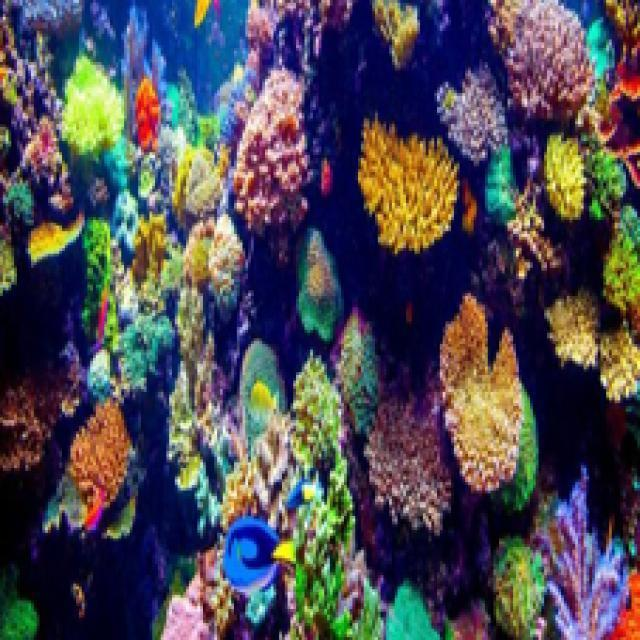Healthy: (443, 305, 528, 489), (364, 128, 454, 249), (239, 76, 304, 235), (497, 1, 585, 113), (553, 508, 626, 640), (299, 471, 356, 640), (378, 400, 450, 533), (67, 59, 126, 155), (76, 408, 131, 504), (299, 233, 344, 336), (441, 86, 510, 152), (298, 361, 341, 464), (5, 384, 52, 467), (84, 222, 113, 345), (551, 297, 598, 369), (499, 548, 540, 630), (346, 322, 375, 431), (548, 141, 584, 224), (608, 216, 638, 312), (601, 331, 640, 402), (137, 213, 170, 291), (381, 1, 422, 63), (386, 592, 437, 640), (186, 161, 224, 219), (126, 321, 169, 372), (592, 147, 623, 216), (216, 220, 240, 305), (164, 598, 212, 640), (137, 79, 164, 152), (30, 220, 78, 261), (186, 223, 215, 287), (489, 152, 516, 214), (591, 23, 614, 93), (230, 472, 266, 516), (3, 603, 39, 638)
